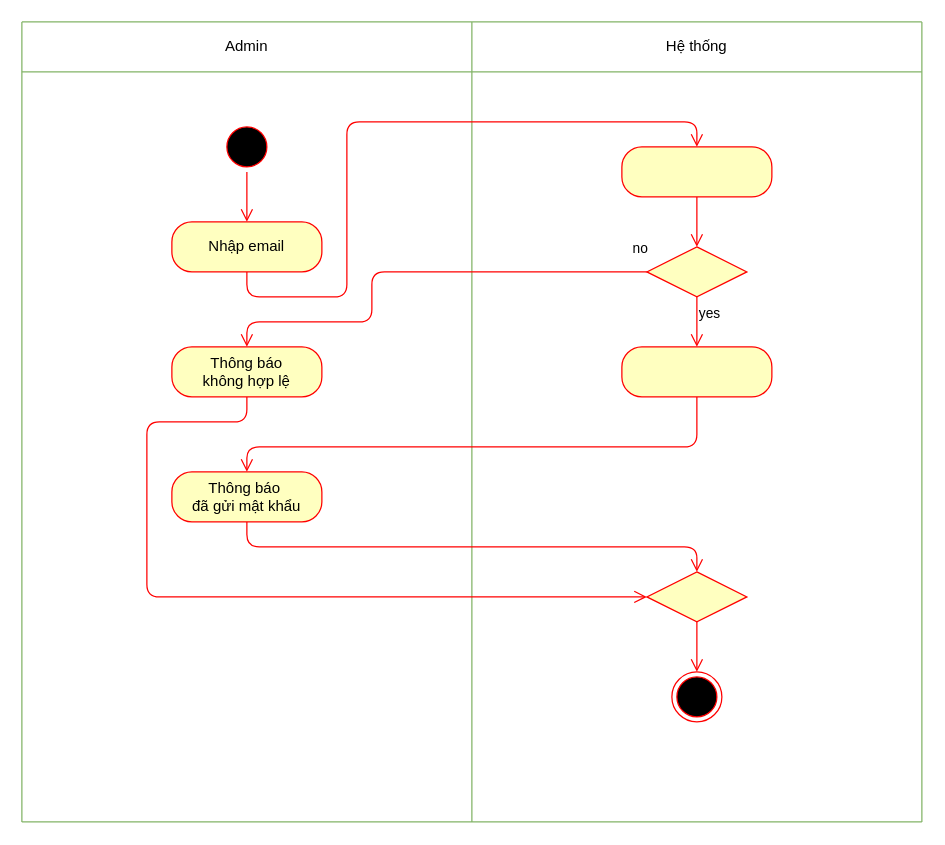
The diagram is 945 pixels wide and 845 high, and some of its shapes have lost their labels. The shapes that lost their labels are listed below. From the top down, each one's centre as x and y in pixels, then its label:
(696,171): Kiểm tra email hợp lệ
(696,371): Gửi mật khẩu đến email đó
